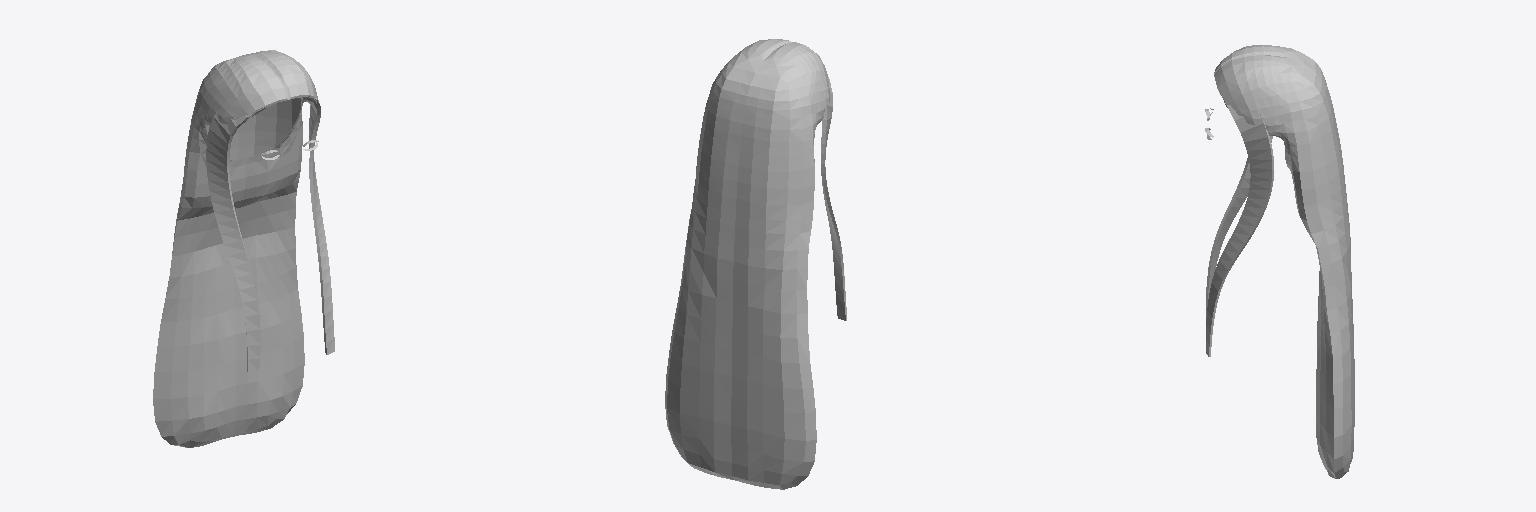
File: hair.obj
The picture shows the model from 3 angles: view 1: azimuth 30°, elevation 25°; view 2: azimuth 150°, elevation 25°; view 3: azimuth 270°, elevation 25°; orthographic projection.
Visible parts, largest first — view 1: GEO Irlana1 Irlana:polySurface15, GEO Irlana1 pPlane11, GEO Irlana1 pPlane10; view 2: GEO Irlana1 Irlana:polySurface15, GEO Irlana1 pPlane11; view 3: GEO Irlana1 Irlana:polySurface15, GEO Irlana1 pPlane10, GEO Irlana1 pPlane11.
Part boxes in pixels (left/top/right/bottom): GEO Irlana1 Irlana:polySurface15: left=153, top=50, right=317, bottom=447; GEO Irlana1 pPlane11: left=206, top=106, right=265, bottom=371; GEO Irlana1 pPlane10: left=306, top=96, right=334, bottom=354; GEO Irlana1 Irlana:polySurface15: left=665, top=39, right=829, bottom=489; GEO Irlana1 pPlane11: left=821, top=77, right=846, bottom=320; GEO Irlana1 Irlana:polySurface15: left=1214, top=45, right=1354, bottom=478; GEO Irlana1 pPlane10: left=1206, top=88, right=1273, bottom=356; GEO Irlana1 pPlane11: left=1206, top=136, right=1272, bottom=317.
Bounding box in the file's own units: 1972 × 5024 × 1685.